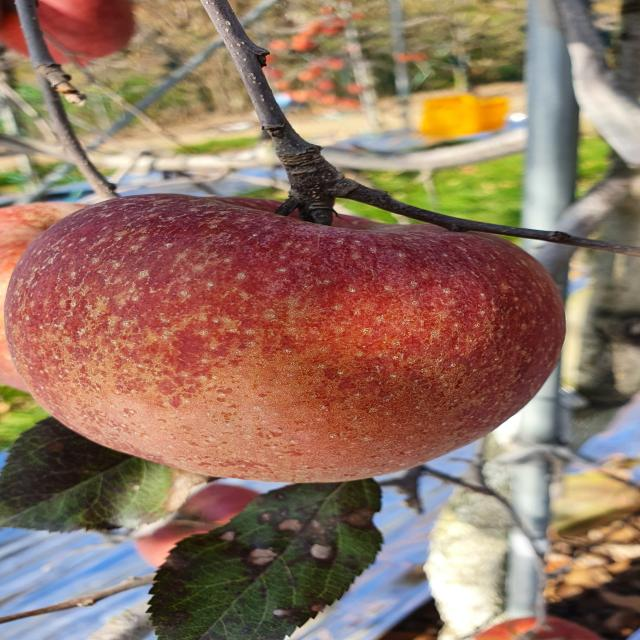fresh: (7, 184, 584, 496)
